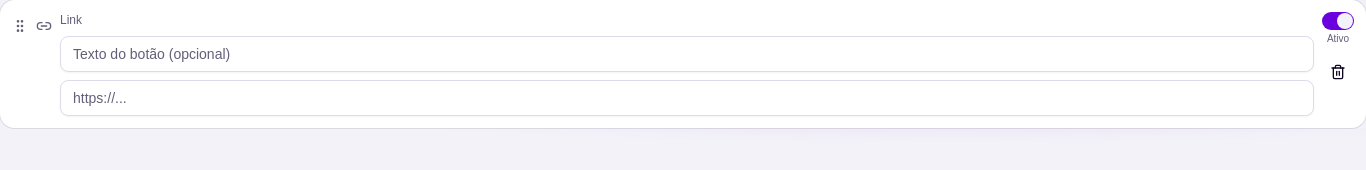
it: LinkBlockCard › nao autosalva e exibe erro quando a URL e invalida apos o campo perder o foco
The image size is (1366, 170).
Type "nao-e-uma-url" into the field named "URL". click: (687, 98)
box: [60,80,1314,116]
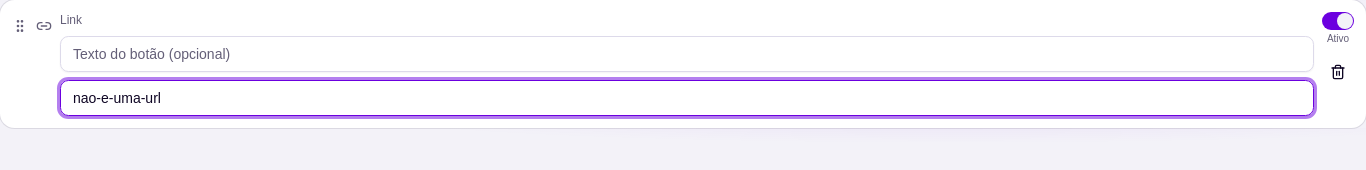
Press Tab
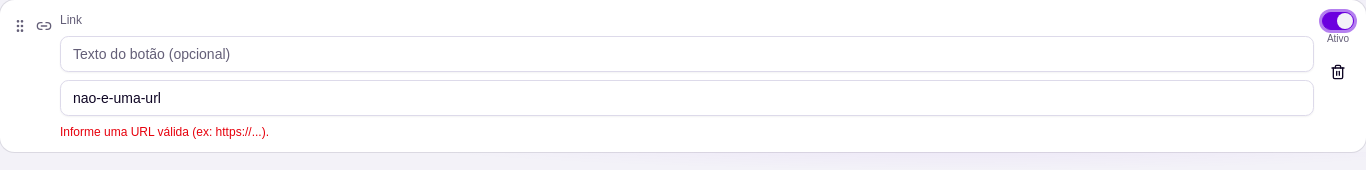
Expected: the text "Informe uma URL válida (ex: https://...)." is shown, [60,125,269,139]
